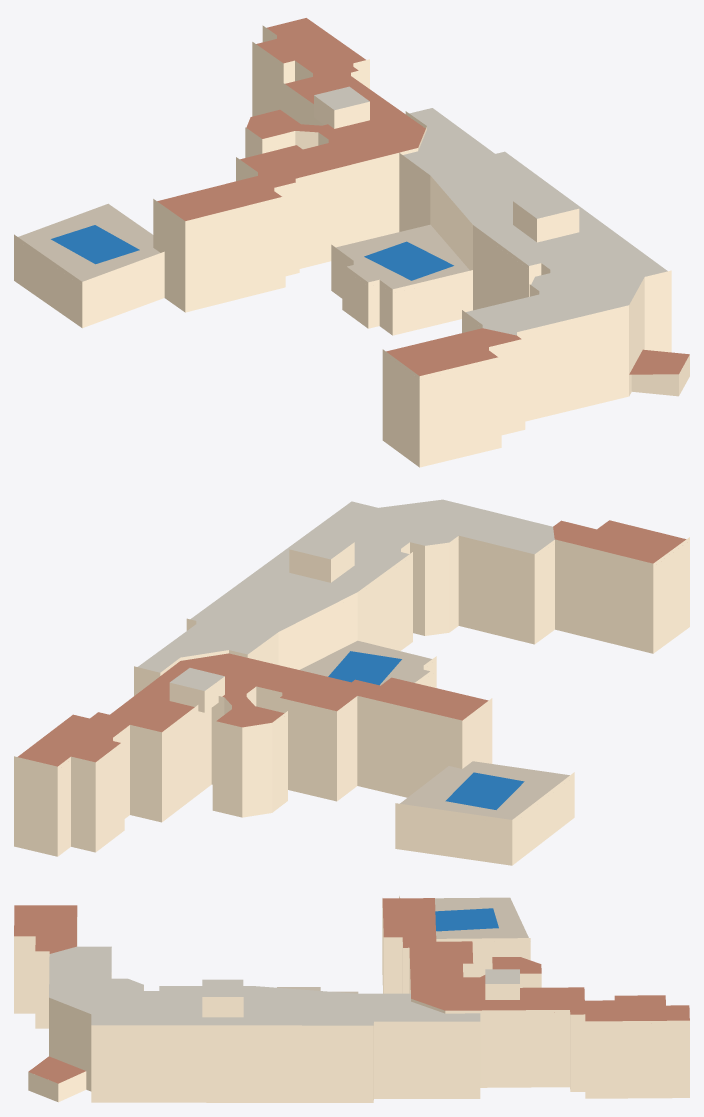
Rendered from serena_hotel_far.glb.
The picture shows the model from 3 angles, top to bottom: view 1: azimuth 30°, elevation 25°; view 2: azimuth 150°, elevation 25°; view 3: azimuth 270°, elevation 25°; orthographic projection. The views are drawn at different scales.
Parts seen in each view (by area): view 1: m_render_white, m_roof_pale, m_roof_terrace, m_deck_tile, m_pool_blue; view 2: m_render_white, m_roof_pale, m_roof_terrace, m_deck_tile, m_pool_blue; view 3: m_render_white, m_roof_pale, m_roof_terrace, m_deck_tile, m_pool_blue.
Part boxes in pixels (x1,y1,x2,y2): m_render_white: (14,25,689,467); m_roof_pale: (314,86,667,335); m_roof_terrace: (157,18,689,375); m_deck_tile: (18,203,469,289); m_pool_blue: (51,225,453,280); m_render_white: (14,535,689,865); m_roof_pale: (138,499,554,690); m_roof_terrace: (18,520,686,766); m_deck_tile: (300,640,569,819); m_pool_blue: (328,651,524,809); m_render_white: (14,896,689,1102); m_roof_pale: (49,946,519,1025); m_roof_terrace: (14,898,689,1083); m_deck_tile: (277,897,528,993); m_pool_blue: (435,908,498,931).
Bounding box in the file's own units: 127 × 33.01 × 214.
